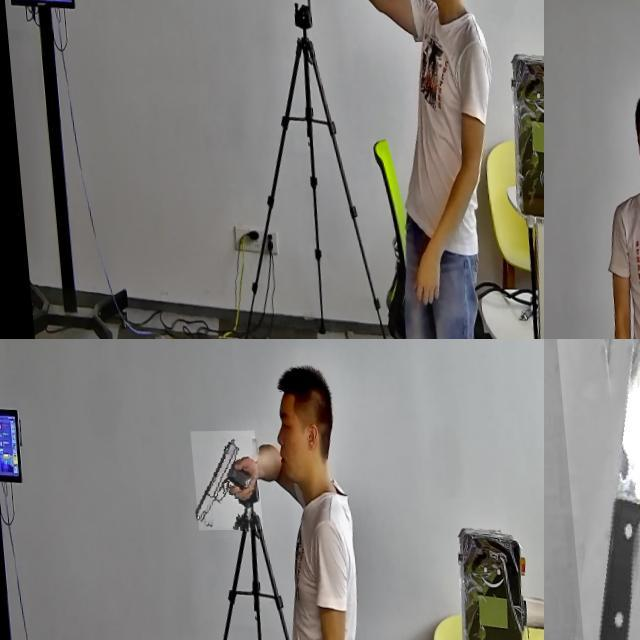-: (544, 339, 640, 640)
gun-knife-thesis - v11 Yolov5 augmented: (186, 432, 258, 532), (265, 0, 340, 38)
